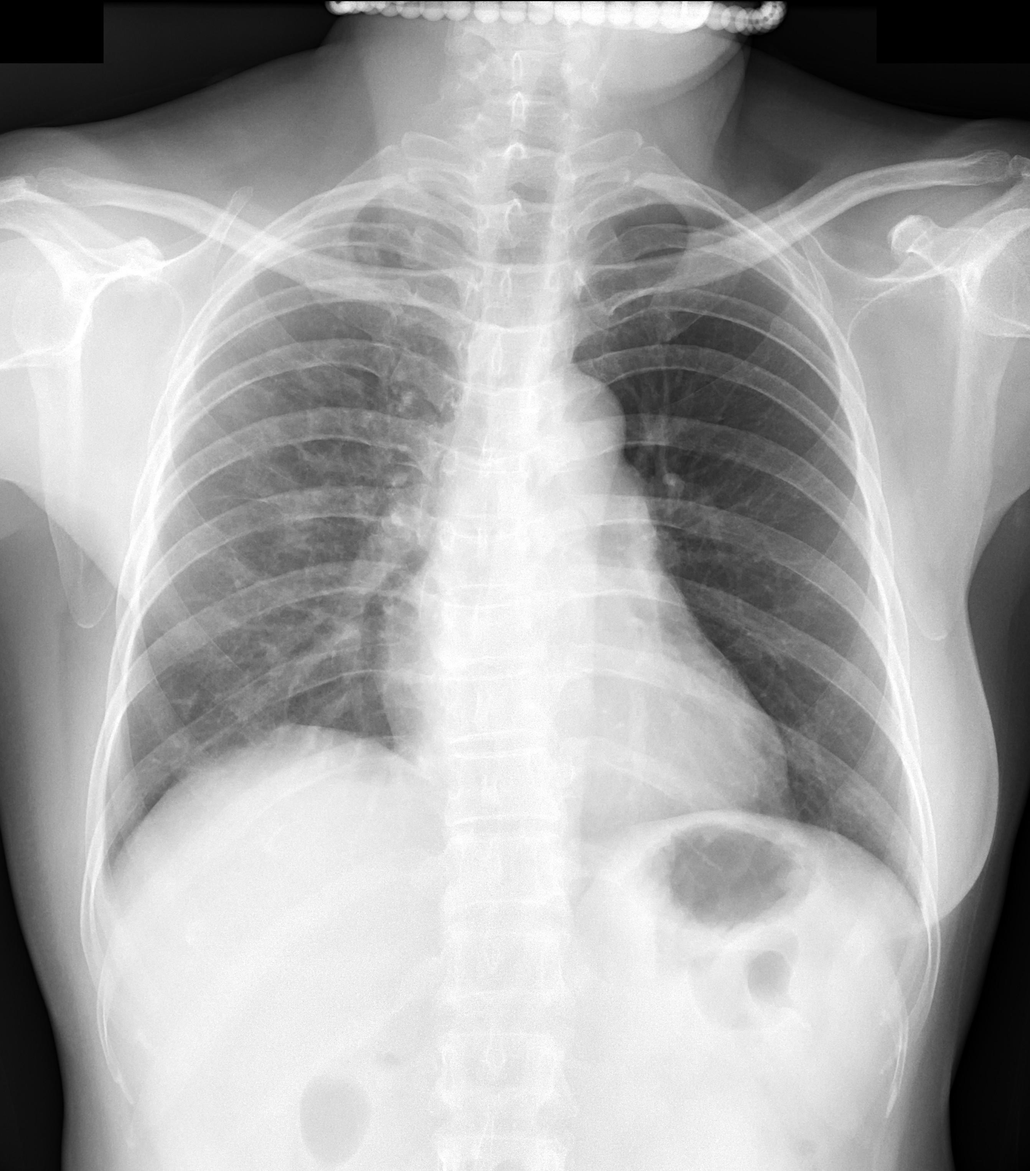Aortic enlargement: (511, 369, 626, 473)
Pulmonary fibrosis: (203, 494, 294, 544), (388, 458, 422, 471)
